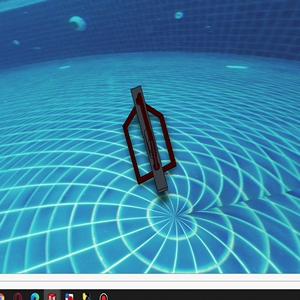submarine: (107, 80, 188, 204)
